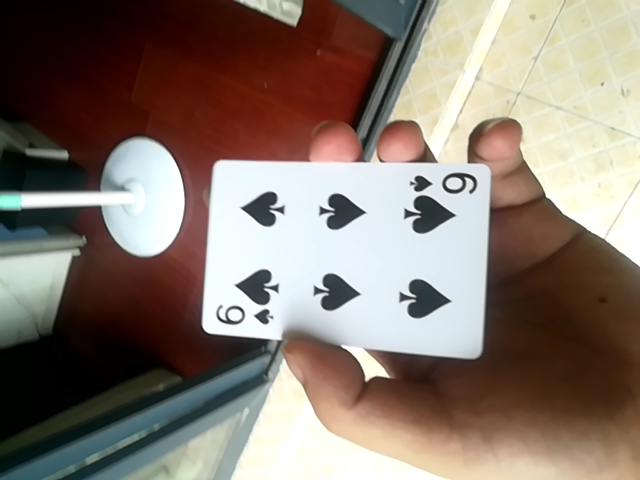ht 6: (196, 159, 498, 361)
